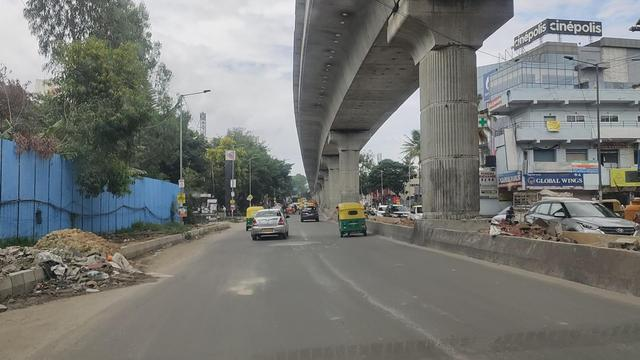LMV: (253, 207, 291, 242), (337, 202, 368, 239)
